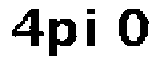0: (113, 4, 153, 53)
4: (7, 5, 46, 48)
i: (83, 7, 104, 51)
p: (47, 13, 80, 60)
